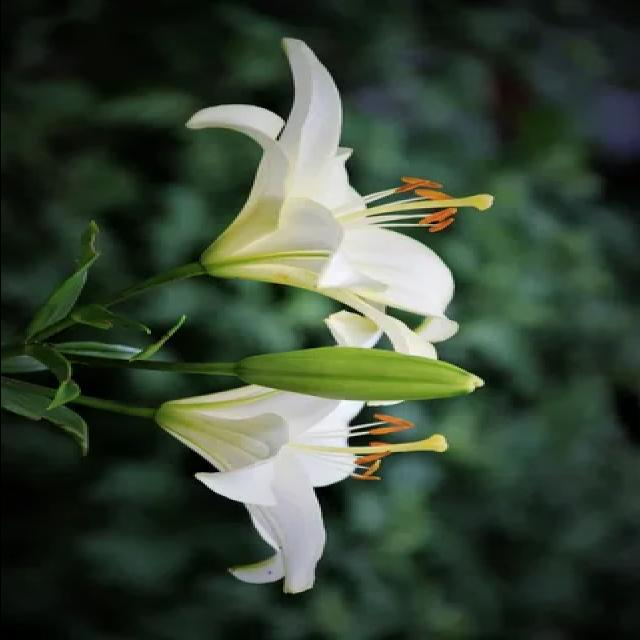lily: (152, 34, 508, 359)
